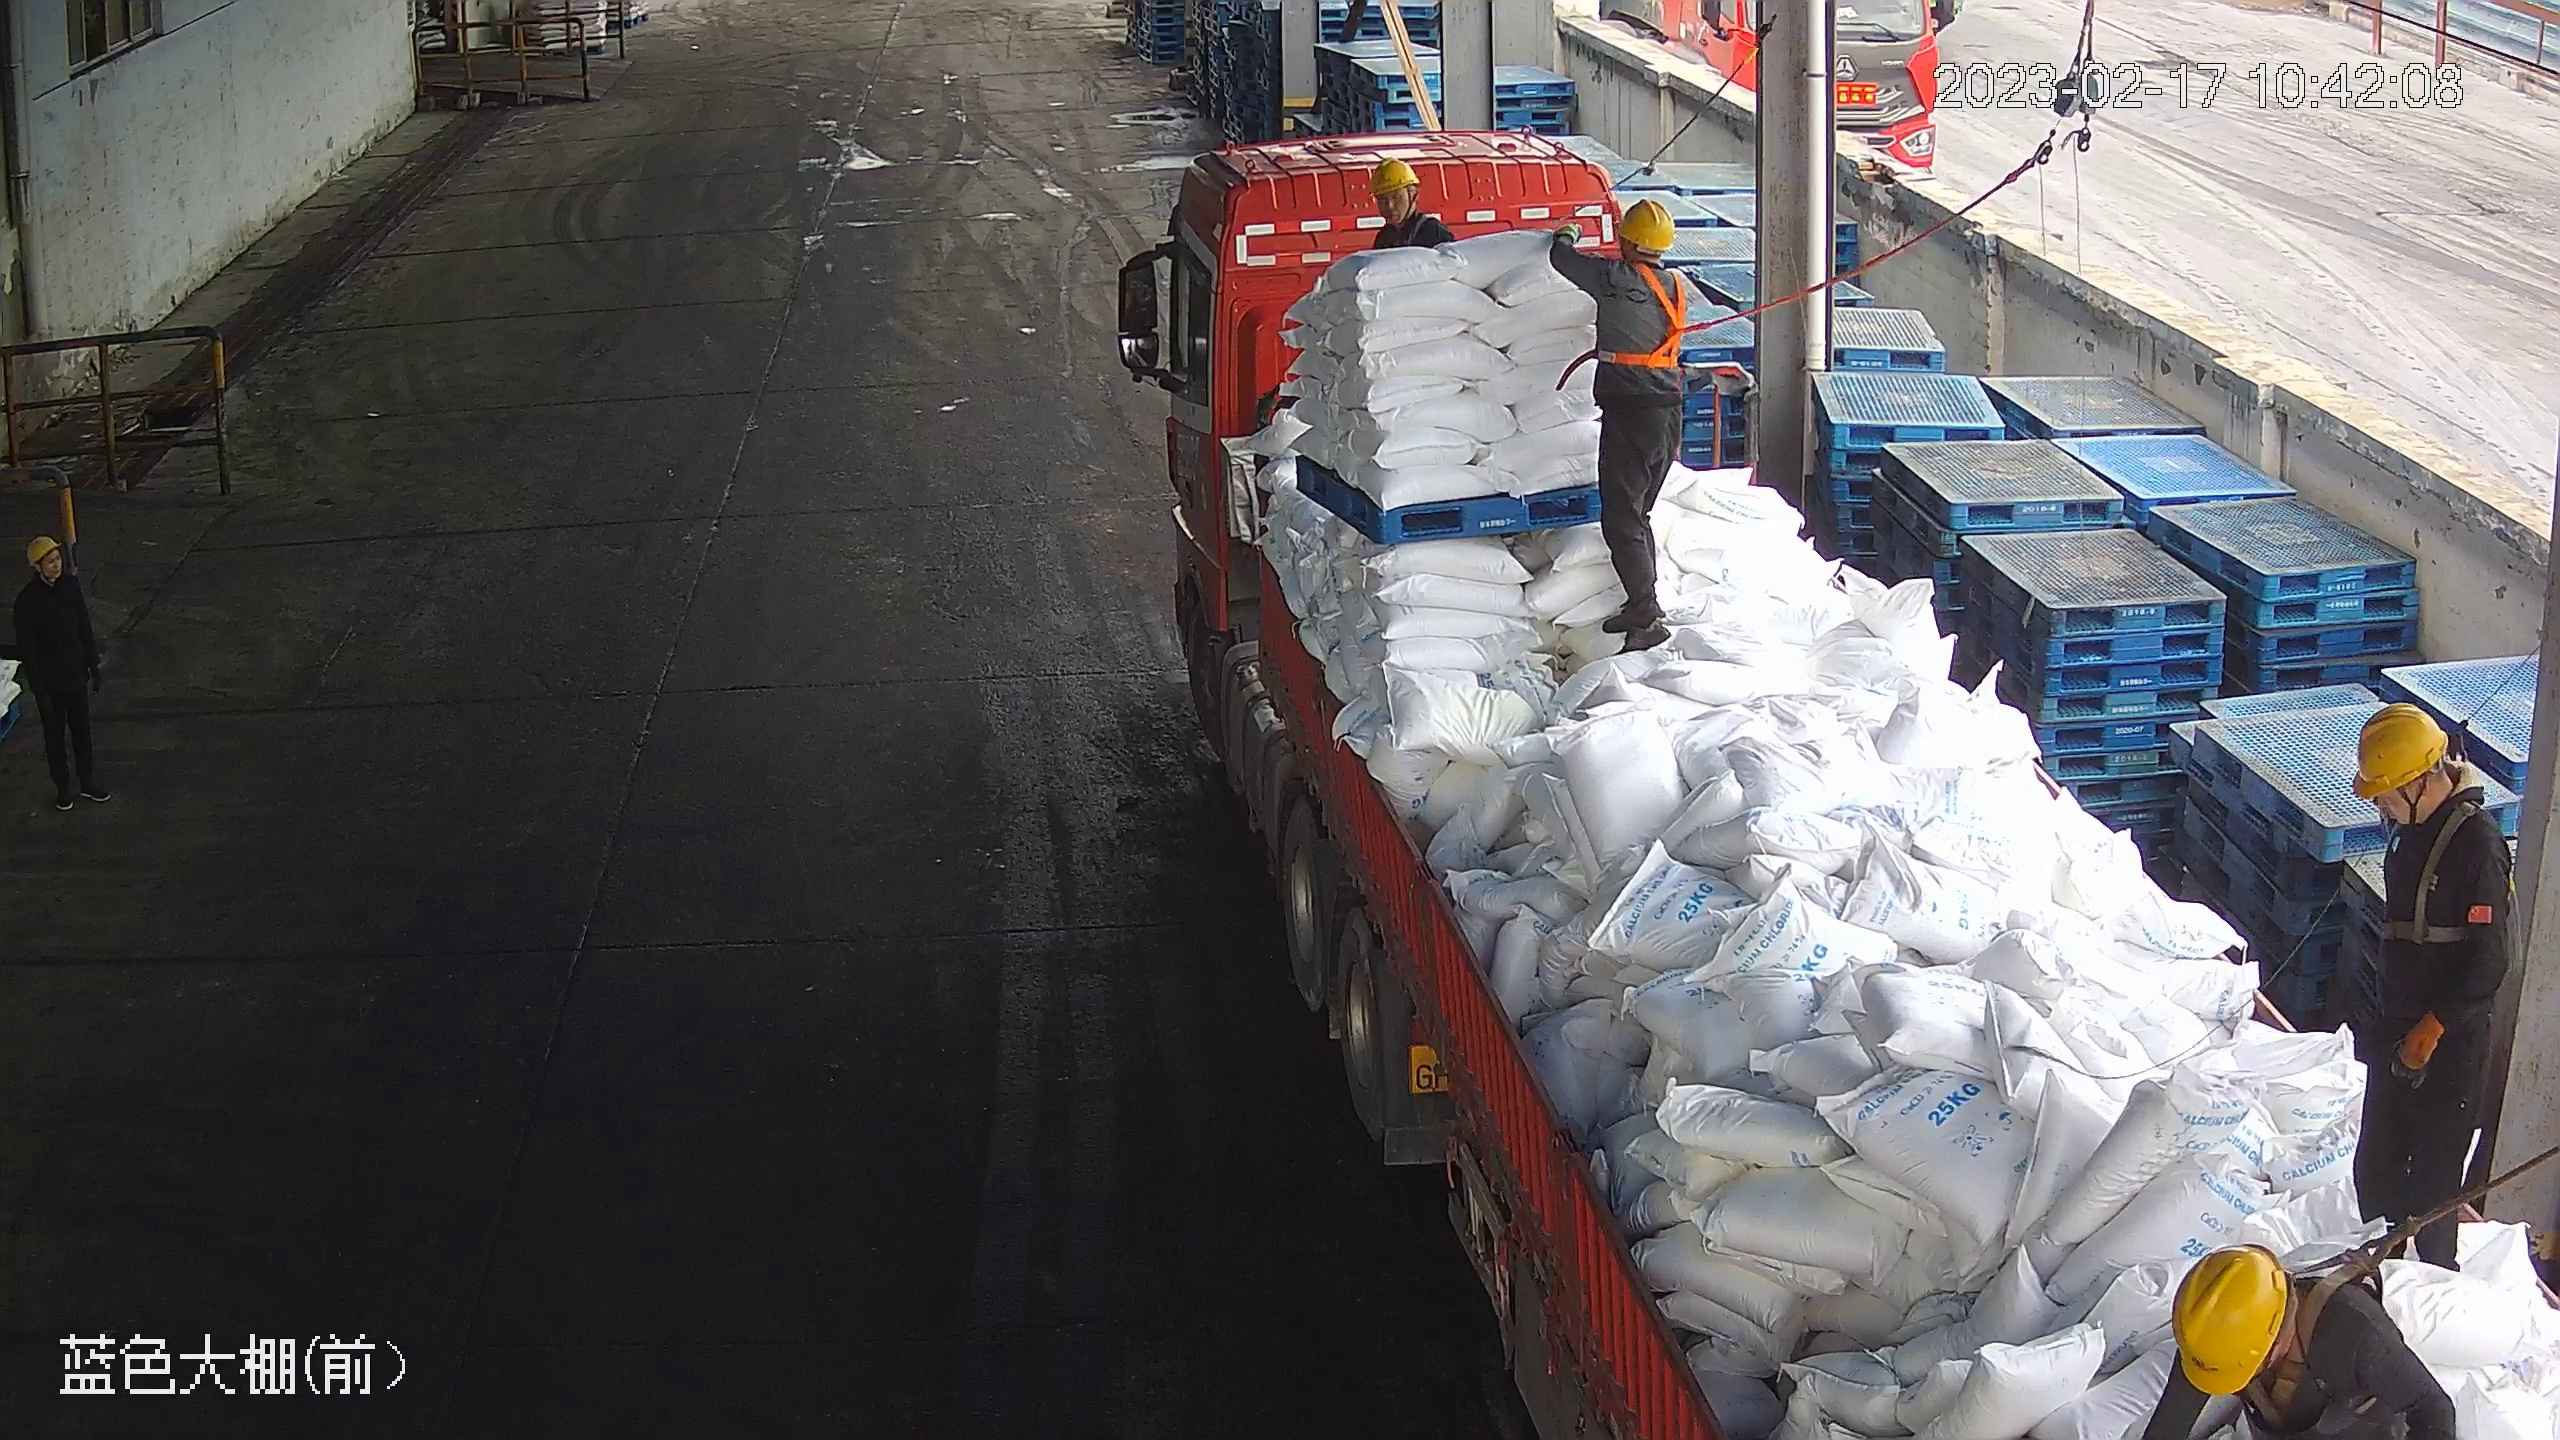belt: (2274, 1222, 2419, 1424), (2372, 807, 2492, 941), (1599, 264, 1706, 375), (1400, 207, 1469, 249)
head: (2154, 1241, 2404, 1432), (2339, 701, 2513, 907), (1582, 199, 1695, 338), (1365, 156, 1456, 255), (10, 533, 92, 618)
helmet: (2172, 1247, 2286, 1394), (2343, 699, 2452, 800), (1614, 198, 1675, 250), (1368, 153, 1418, 195), (23, 535, 62, 566)
people: (2333, 703, 2522, 1293), (1558, 203, 1703, 657), (7, 532, 114, 813)
truck: (1114, 127, 2559, 1438)
